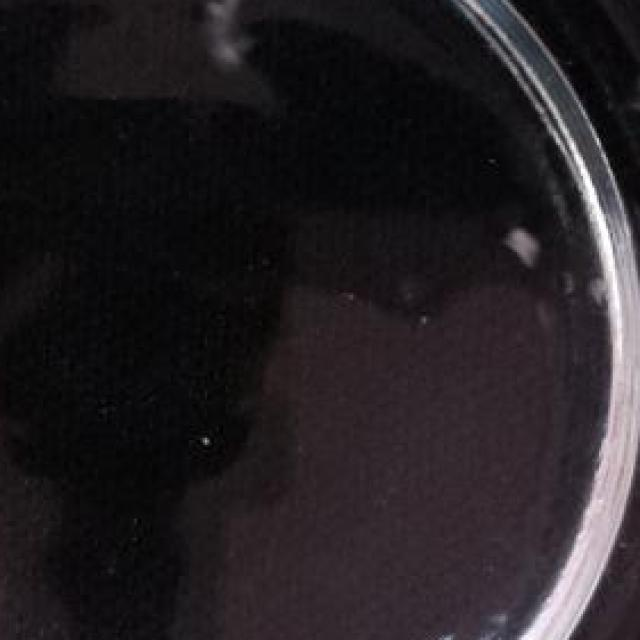Microplastic: (200, 0, 271, 81), (503, 209, 556, 281), (612, 31, 640, 135)
